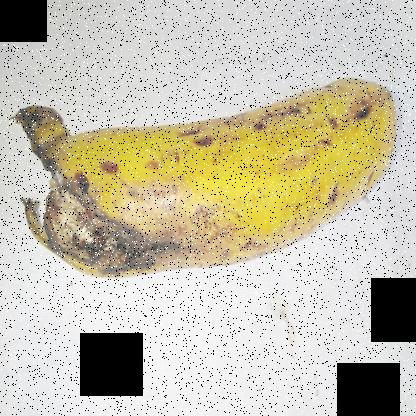ripe: (154, 67, 404, 293)
rotten: (13, 90, 172, 320)
